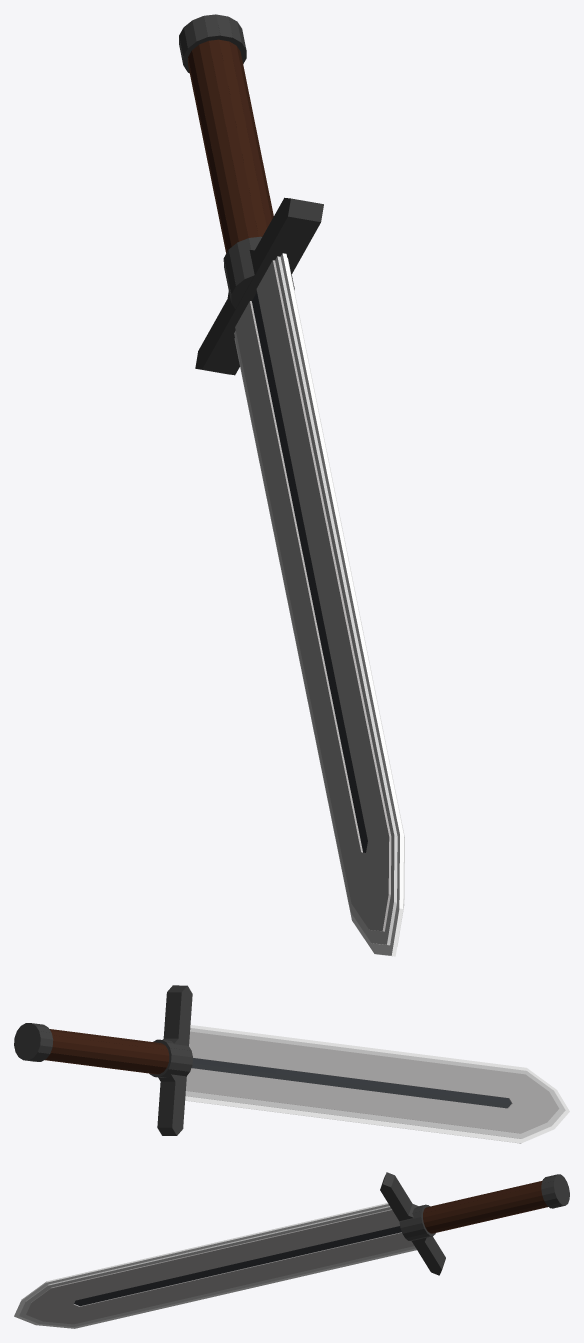
File: adventurers_sword.glb
3 renders of one model, top to bottom at view 1: azimuth 30°, elevation 25°; view 2: azimuth 150°, elevation 25°; view 3: azimuth 270°, elevation 25°, orthographic. The views are drawn at different scales.
Parts seen in each view (by area): view 1: 148e33c8-2f36-5e2e-6a52-fae27ed6d9bd_54, 151810dc-af76-fa82-ad5a-9c4bf4dba839_55, 11b81f09-0a6e-a055-031c-50367698178b_60, 5580f27a-d99c-8ca4-f9d8-828b4b530e3c_65, fb6928e3-756b-89d9-a3e1-f0869d471934_53, 53549632-ae5d-db99-b4a9-055dfc0623a0_45, a9656746-d107-3cd7-688d-170ccc925851_71, 2f85e95d-ea30-00ae-83b1-c61ac4c16136_72, 46c6e81f-a4e4-58a7-1279-8bd7cb4afb64_44, f2af0976-754b-a8b0-59f3-48c1dd68c4b0_70, acf6ccf9-9aab-c58e-c38e-45e6a9ee04c6_74, 75180035-d01c-ee90-8493-4835518d2603_49 (+2 smaller); view 2: 148e33c8-2f36-5e2e-6a52-fae27ed6d9bd_54, 151810dc-af76-fa82-ad5a-9c4bf4dba839_55, fb6928e3-756b-89d9-a3e1-f0869d471934_53, 11b81f09-0a6e-a055-031c-50367698178b_60, 5580f27a-d99c-8ca4-f9d8-828b4b530e3c_65, 53549632-ae5d-db99-b4a9-055dfc0623a0_45, 46c6e81f-a4e4-58a7-1279-8bd7cb4afb64_44, 36aa2791-c672-5497-c950-1f2174f158fa_80, 5335869c-7967-5cb1-d957-9504ccaf548f_79, acf6ccf9-9aab-c58e-c38e-45e6a9ee04c6_74, b0b67bad-52a7-83bf-3bbf-3efb6287c439_52, 75180035-d01c-ee90-8493-4835518d2603_49 (+7 smaller); view 3: 148e33c8-2f36-5e2e-6a52-fae27ed6d9bd_54, 151810dc-af76-fa82-ad5a-9c4bf4dba839_55, 11b81f09-0a6e-a055-031c-50367698178b_60, fb6928e3-756b-89d9-a3e1-f0869d471934_53, 5580f27a-d99c-8ca4-f9d8-828b4b530e3c_65, 53549632-ae5d-db99-b4a9-055dfc0623a0_45, 46c6e81f-a4e4-58a7-1279-8bd7cb4afb64_44, 6b27add5-c25f-004e-1755-c7da0e8d78a8_67, 019eea2f-0ac0-7e54-9bfd-d30c035808fc_68, a4b4e011-1119-18bf-bc02-28ed8c687dc2_66, 1c27ed7f-b333-f00f-a82f-2ac84fae432b_69, 75180035-d01c-ee90-8493-4835518d2603_49 (+5 smaller).
Part boxes in pixels (x1,y1,x2,y2): 148e33c8-2f36-5e2e-6a52-fae27ed6d9bd_54: [256, 260, 391, 864]; 151810dc-af76-fa82-ad5a-9c4bf4dba839_55: [235, 301, 364, 903]; 11b81f09-0a6e-a055-031c-50367698178b_60: [234, 256, 404, 912]; 5580f27a-d99c-8ca4-f9d8-828b4b530e3c_65: [234, 253, 403, 919]; fb6928e3-756b-89d9-a3e1-f0869d471934_53: [252, 292, 367, 852]; 53549632-ae5d-db99-b4a9-055dfc0623a0_45: [235, 198, 320, 311]; a9656746-d107-3cd7-688d-170ccc925851_71: [208, 39, 258, 237]; 2f85e95d-ea30-00ae-83b1-c61ac4c16136_72: [199, 41, 248, 241]; 46c6e81f-a4e4-58a7-1279-8bd7cb4afb64_44: [198, 277, 253, 375]; f2af0976-754b-a8b0-59f3-48c1dd68c4b0_70: [219, 39, 266, 236]; acf6ccf9-9aab-c58e-c38e-45e6a9ee04c6_74: [192, 45, 238, 246]; 75180035-d01c-ee90-8493-4835518d2603_49: [351, 851, 386, 929]; 148e33c8-2f36-5e2e-6a52-fae27ed6d9bd_54: [189, 1031, 525, 1098]; 151810dc-af76-fa82-ad5a-9c4bf4dba839_55: [186, 1068, 521, 1133]; fb6928e3-756b-89d9-a3e1-f0869d471934_53: [191, 1058, 511, 1108]; 11b81f09-0a6e-a055-031c-50367698178b_60: [185, 1028, 526, 1138]; 5580f27a-d99c-8ca4-f9d8-828b4b530e3c_65: [185, 1025, 526, 1143]; 53549632-ae5d-db99-b4a9-055dfc0623a0_45: [163, 992, 192, 1045]; 46c6e81f-a4e4-58a7-1279-8bd7cb4afb64_44: [157, 1075, 186, 1128]; 36aa2791-c672-5497-c950-1f2174f158fa_80: [52, 1041, 169, 1061]; 5335869c-7967-5cb1-d957-9504ccaf548f_79: [51, 1047, 168, 1067]; acf6ccf9-9aab-c58e-c38e-45e6a9ee04c6_74: [52, 1035, 169, 1055]; b0b67bad-52a7-83bf-3bbf-3efb6287c439_52: [519, 1074, 548, 1119]; 75180035-d01c-ee90-8493-4835518d2603_49: [518, 1089, 547, 1133]; 148e33c8-2f36-5e2e-6a52-fae27ed6d9bd_54: [51, 1209, 399, 1303]; 151810dc-af76-fa82-ad5a-9c4bf4dba839_55: [71, 1232, 414, 1324]; 11b81f09-0a6e-a055-031c-50367698178b_60: [48, 1206, 415, 1326]; fb6928e3-756b-89d9-a3e1-f0869d471934_53: [74, 1226, 401, 1305]; 5580f27a-d99c-8ca4-f9d8-828b4b530e3c_65: [46, 1203, 416, 1328]; 53549632-ae5d-db99-b4a9-055dfc0623a0_45: [380, 1176, 412, 1221]; 46c6e81f-a4e4-58a7-1279-8bd7cb4afb64_44: [412, 1236, 445, 1272]; 6b27add5-c25f-004e-1755-c7da0e8d78a8_67: [423, 1190, 541, 1222]; 019eea2f-0ac0-7e54-9bfd-d30c035808fc_68: [424, 1195, 543, 1227]; a4b4e011-1119-18bf-bc02-28ed8c687dc2_66: [423, 1186, 541, 1217]; 1c27ed7f-b333-f00f-a82f-2ac84fae432b_69: [425, 1200, 545, 1230]; 75180035-d01c-ee90-8493-4835518d2603_49: [40, 1299, 72, 1324].
Size of the model in its own units: 7.41 by 8.51 by 18.16.
Materials: 4 (4 with a texture image).
